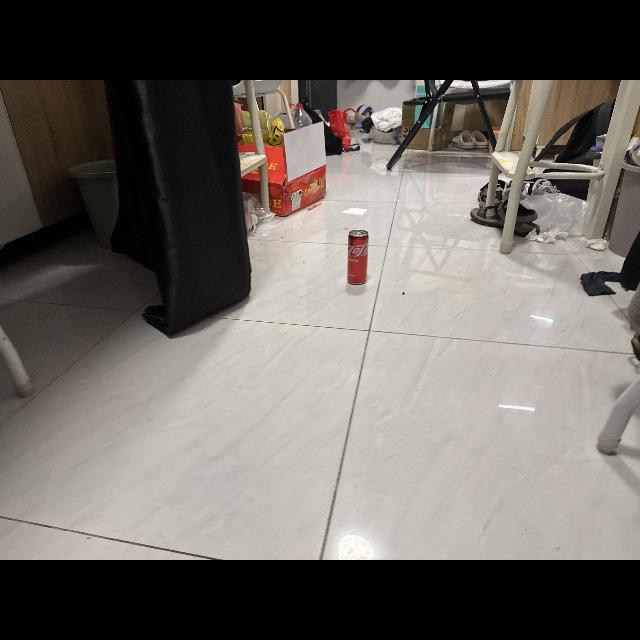Cola: (342, 227, 376, 290)
